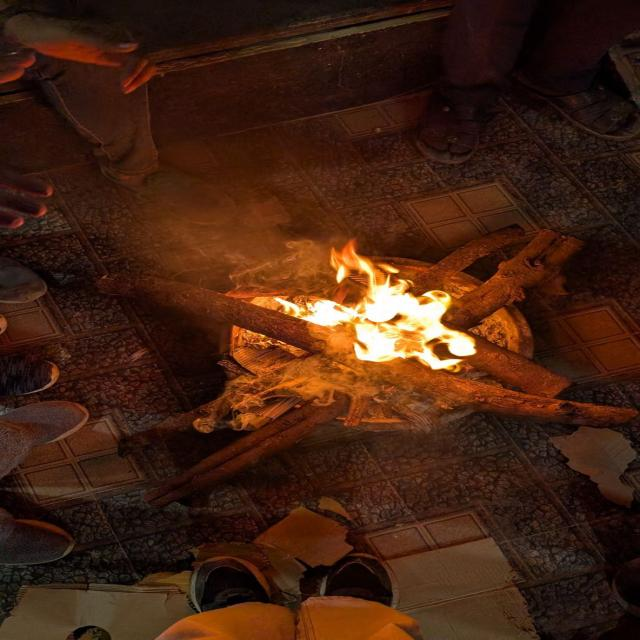fire: (276, 243, 479, 369)
